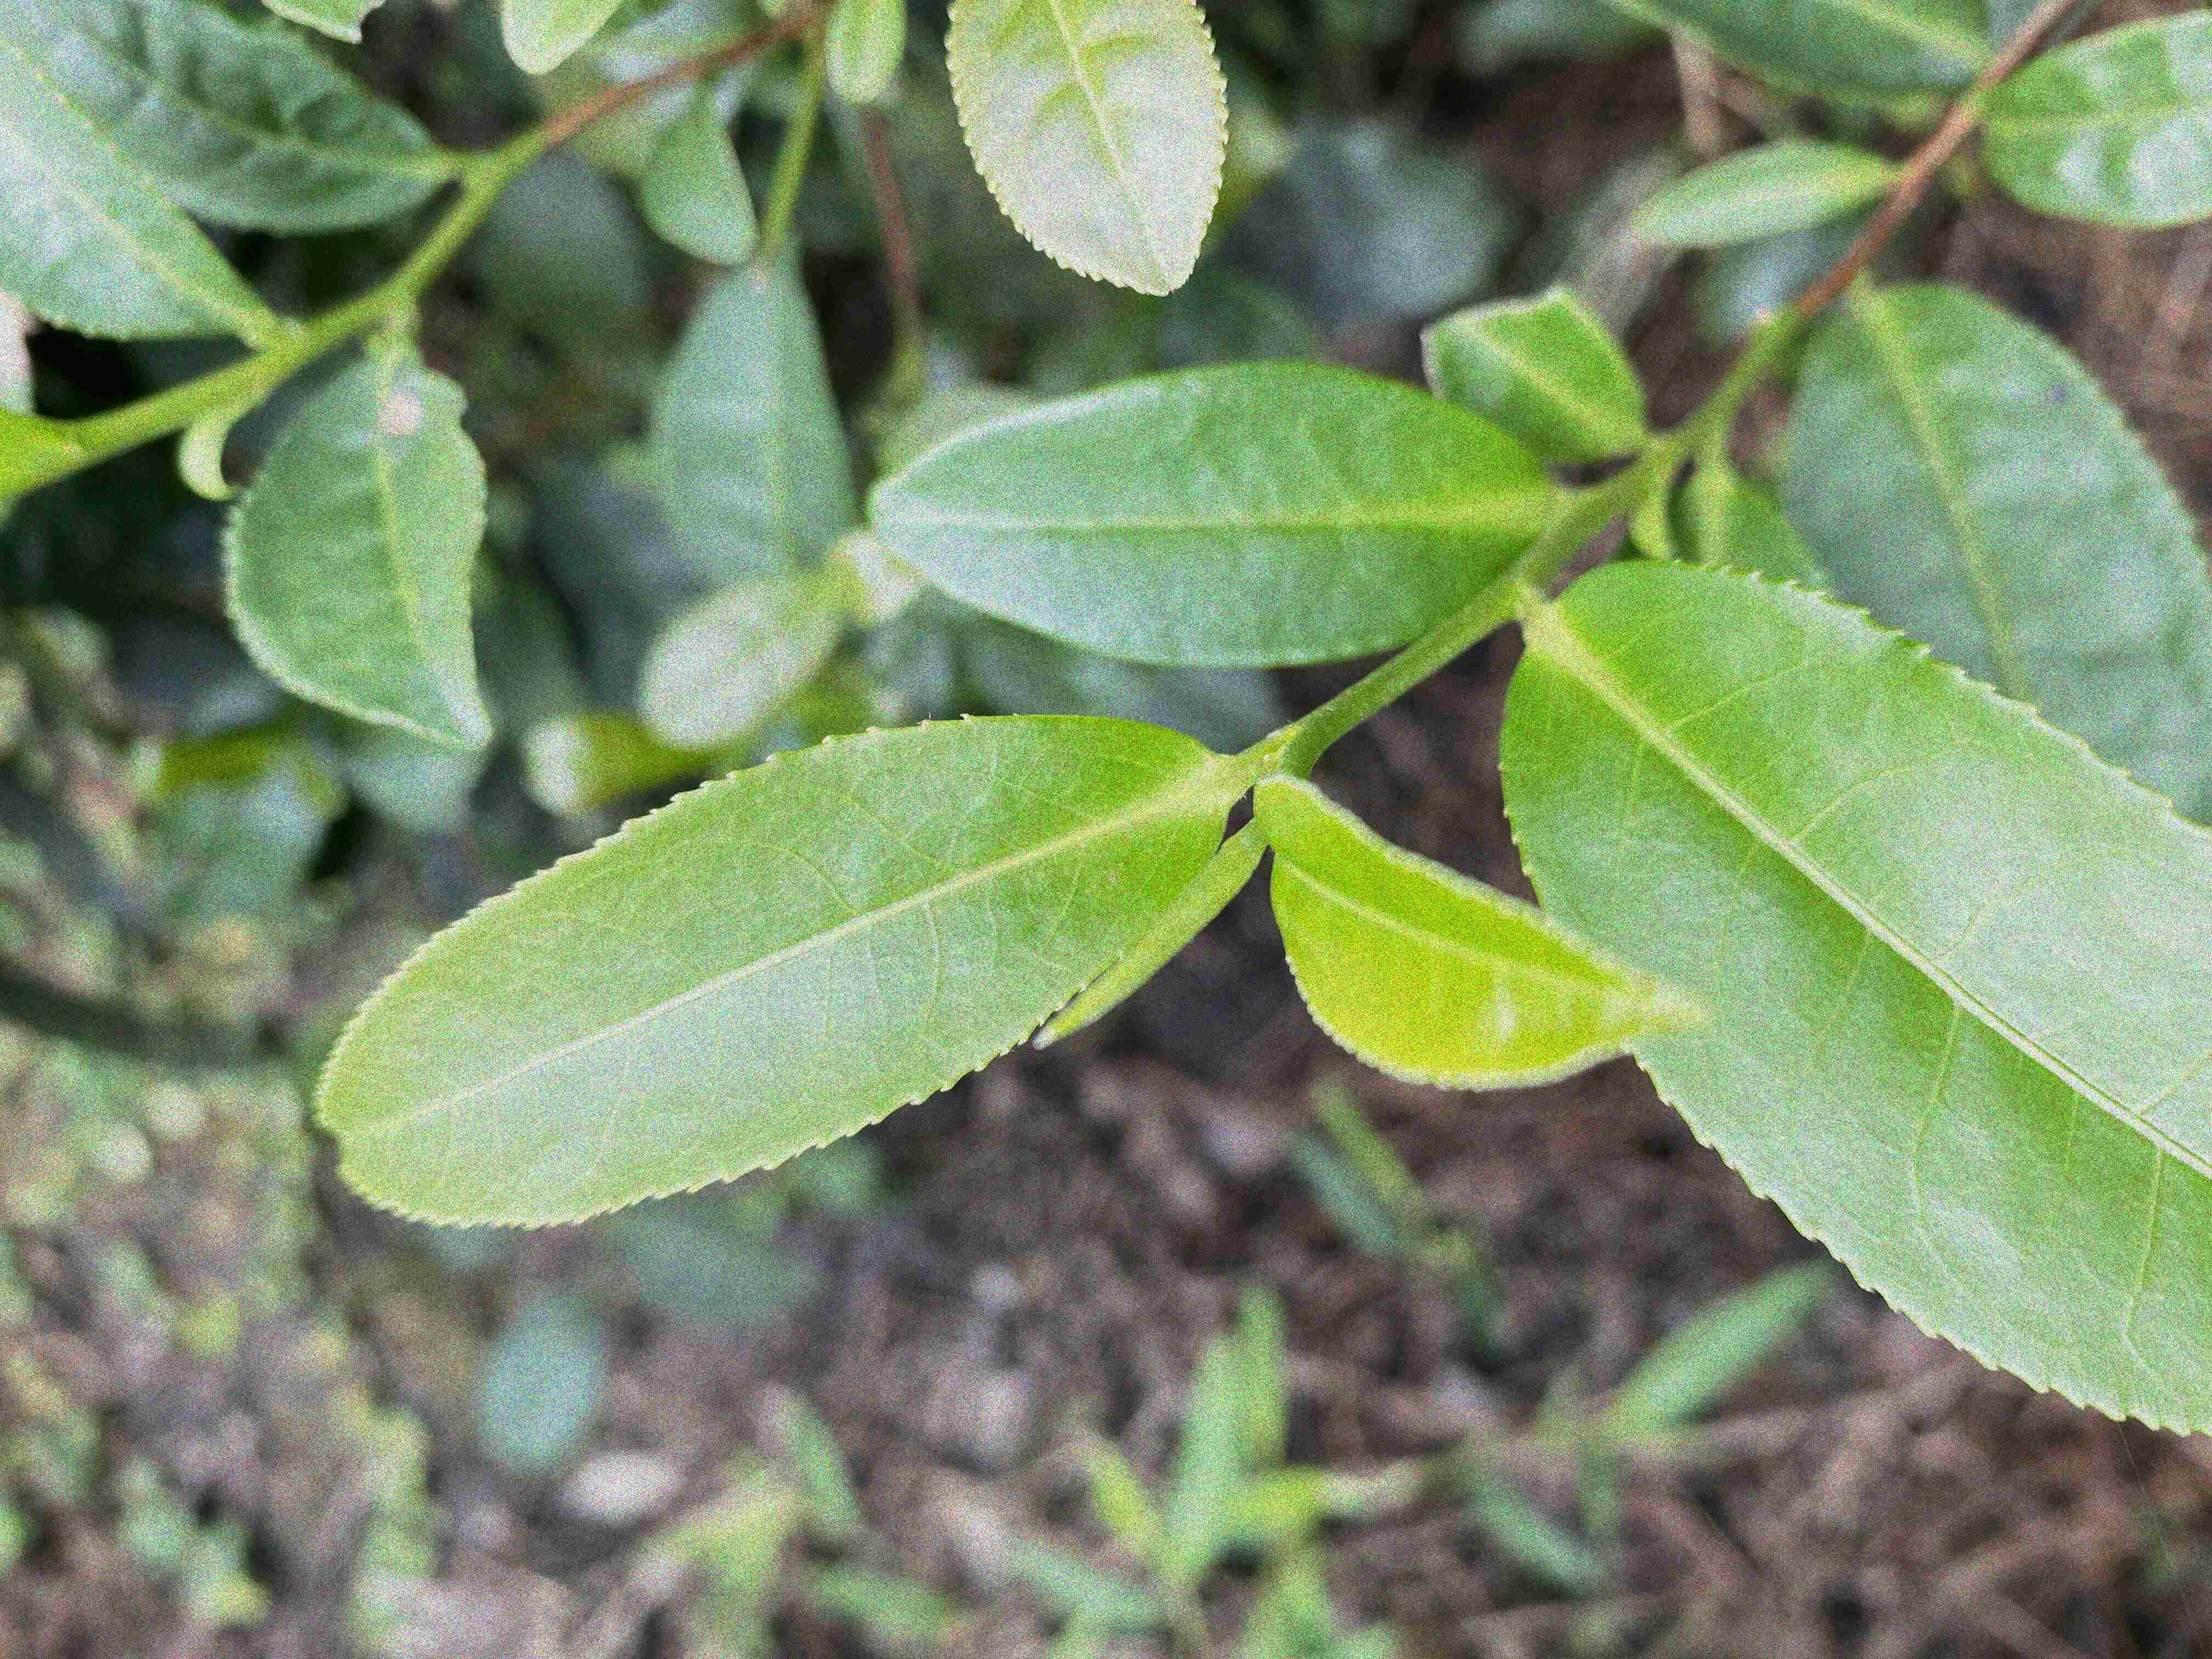chihuo_high: (1420, 282, 1649, 469)
healthy: (1496, 556, 2210, 1438), (314, 711, 1228, 1230), (862, 361, 1554, 671), (1251, 770, 1705, 1091), (942, 3, 1230, 296)
tanju_low: (216, 343, 495, 751)
